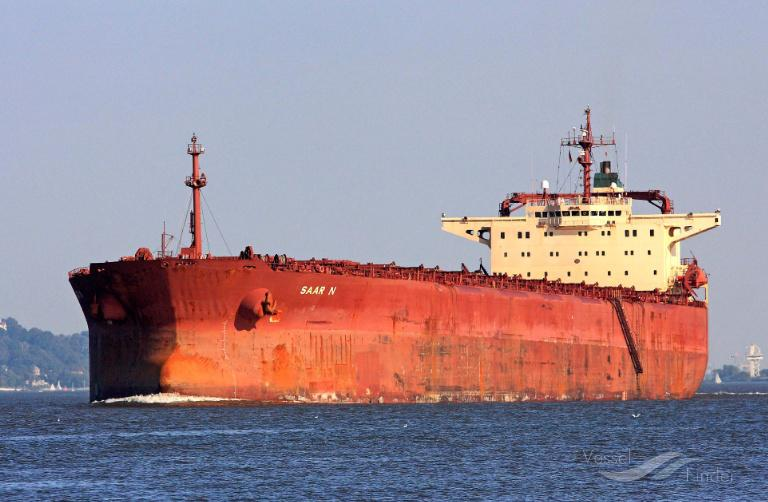OCR: (293, 280, 343, 299)
